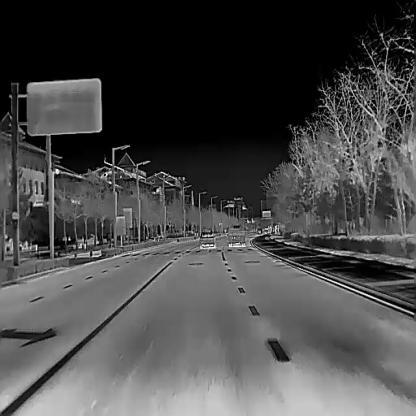car: (228, 223, 245, 246), (198, 231, 216, 251)
